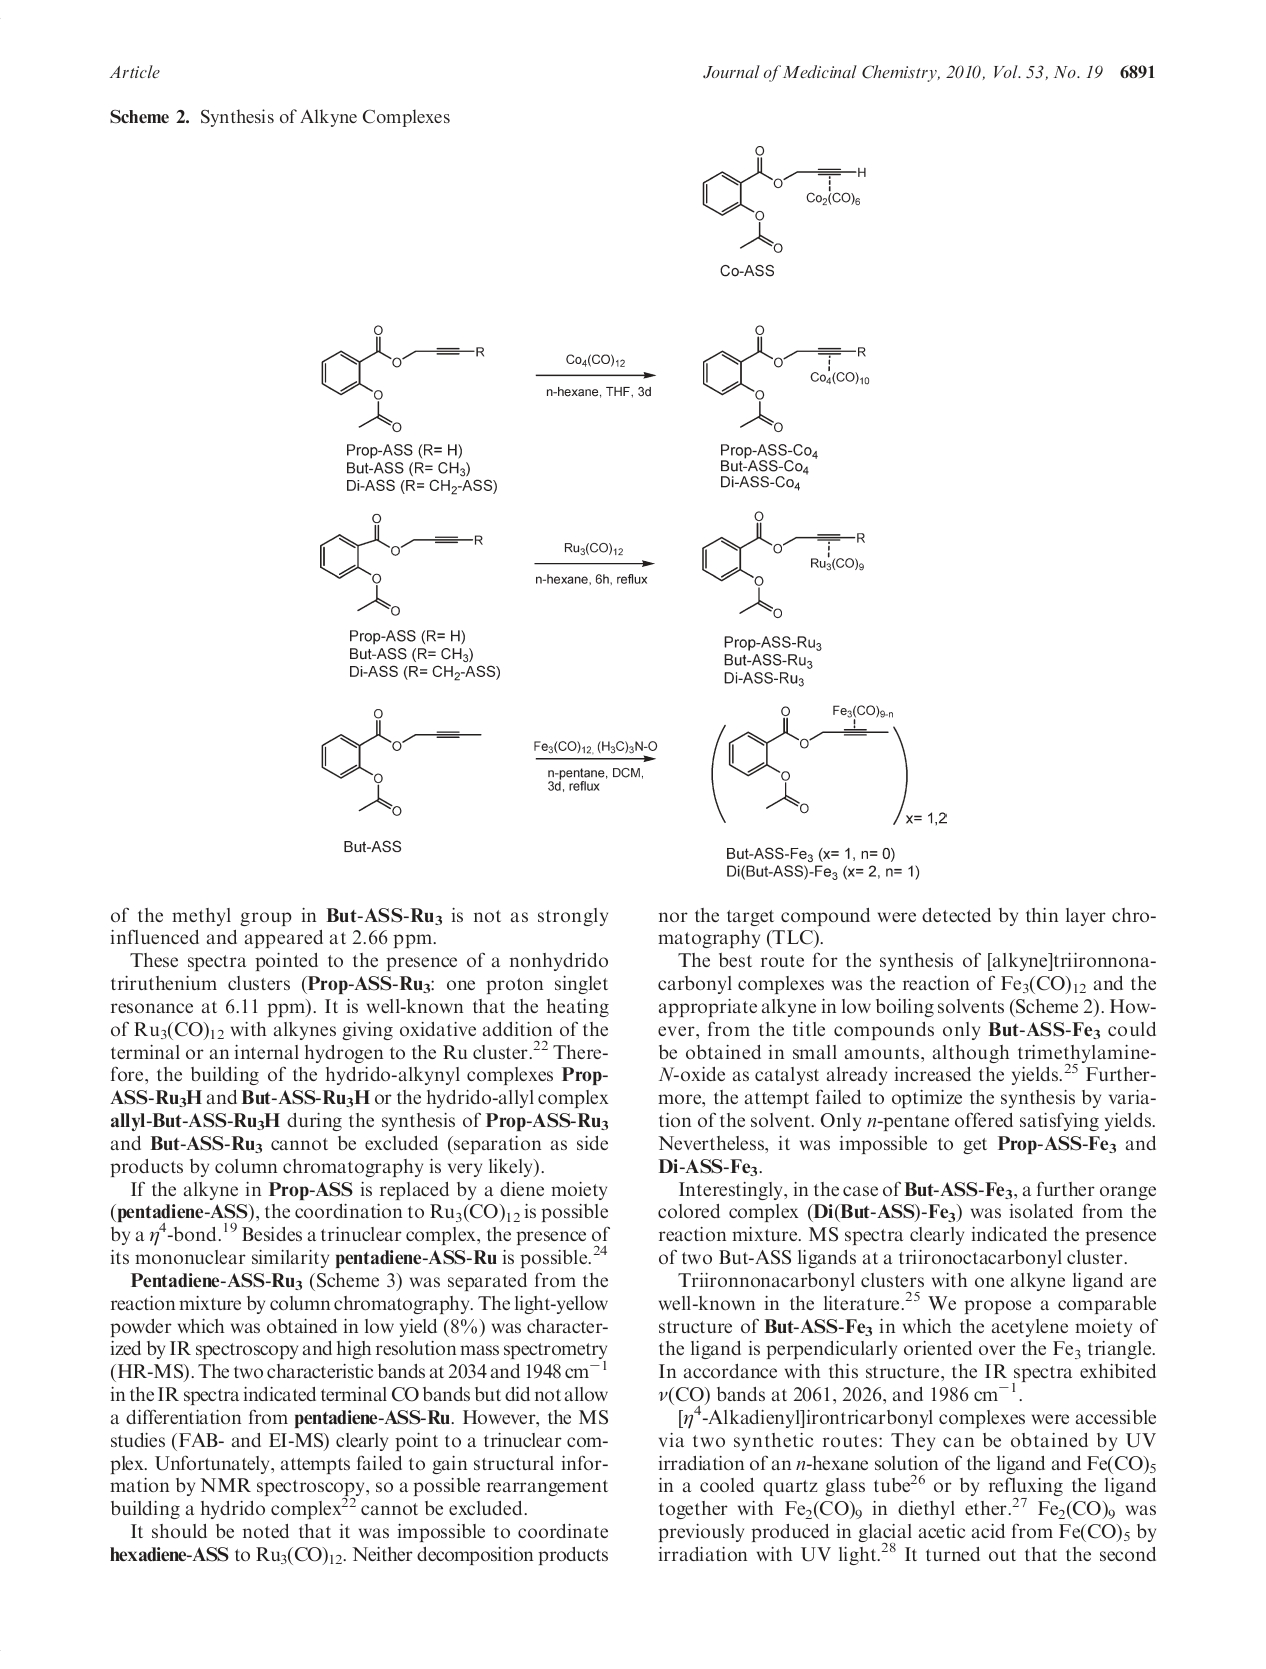exist_molecular: (727, 702, 896, 813), (319, 321, 485, 432), (699, 144, 867, 253), (699, 511, 867, 620), (701, 323, 868, 431), (319, 707, 481, 818), (318, 513, 485, 616)
